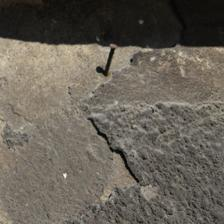Crack: (43, 24, 112, 163)
